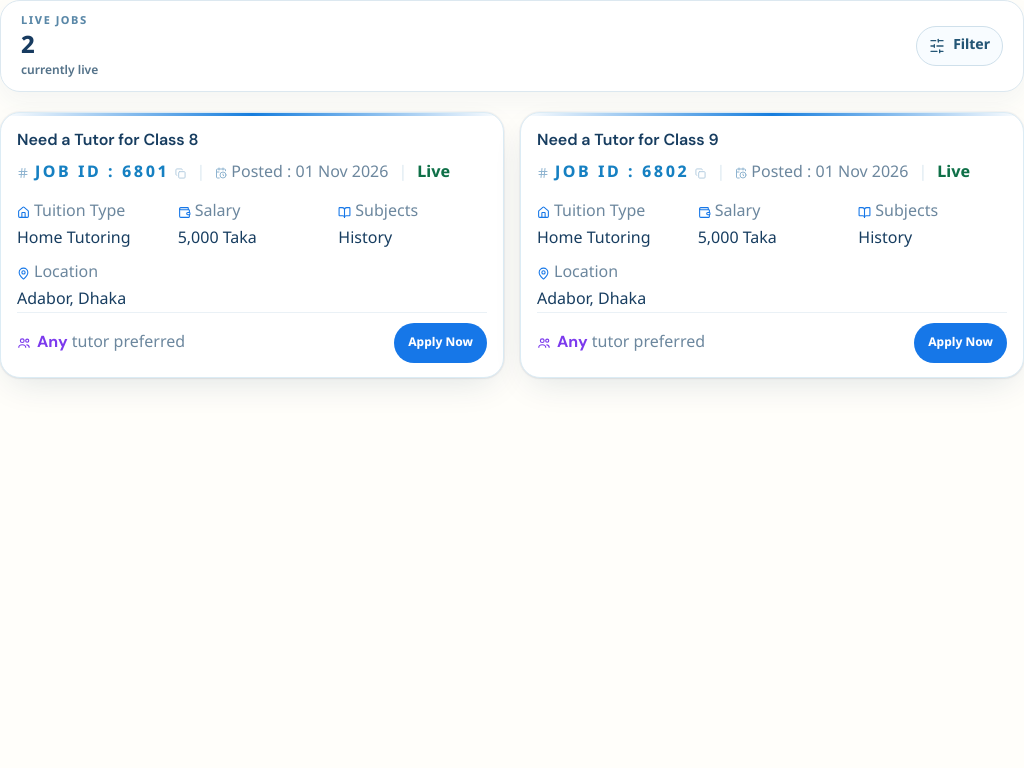
Test case: applying from a Job Board card › applies nothing when the Tutor says No
Click the 1st button "Apply Now": [441, 343] box left=394, top=323, right=487, bottom=363
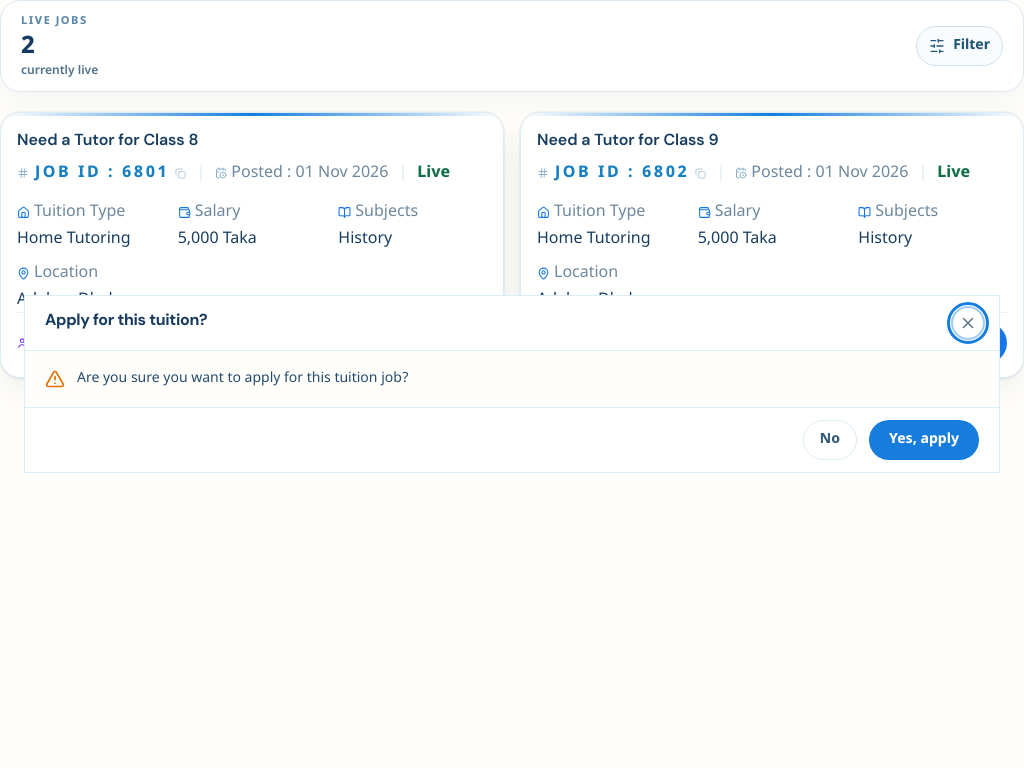
Click the button "No": [830, 440] box left=803, top=420, right=857, bottom=460
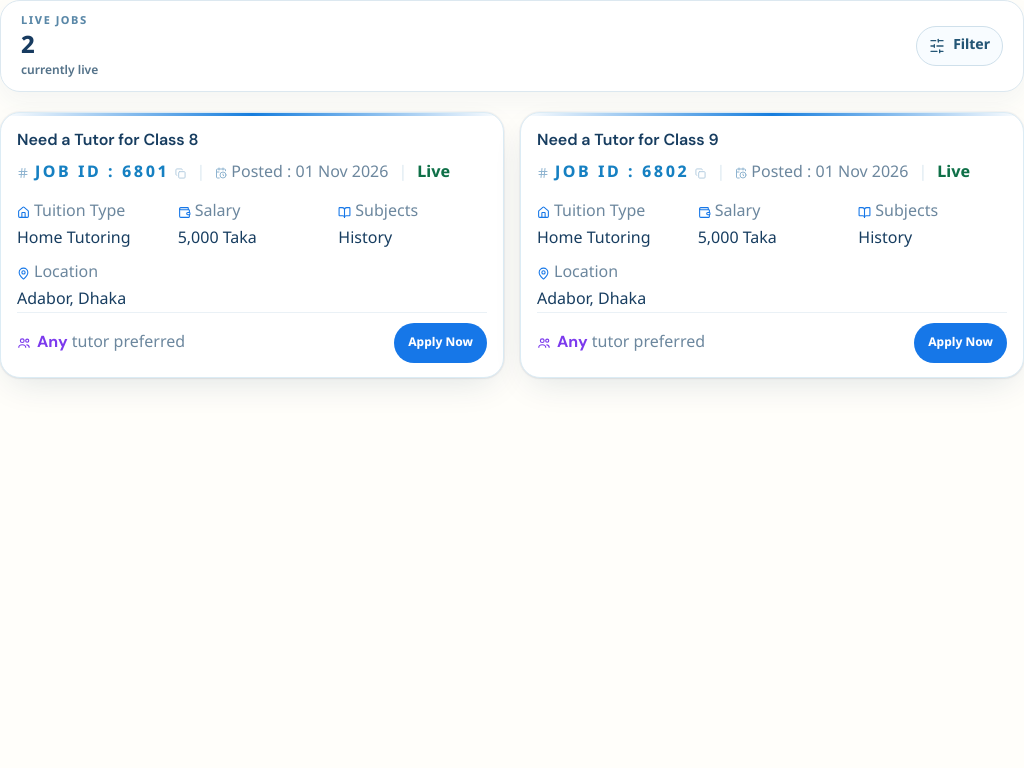
Expected: the dialog is gone
